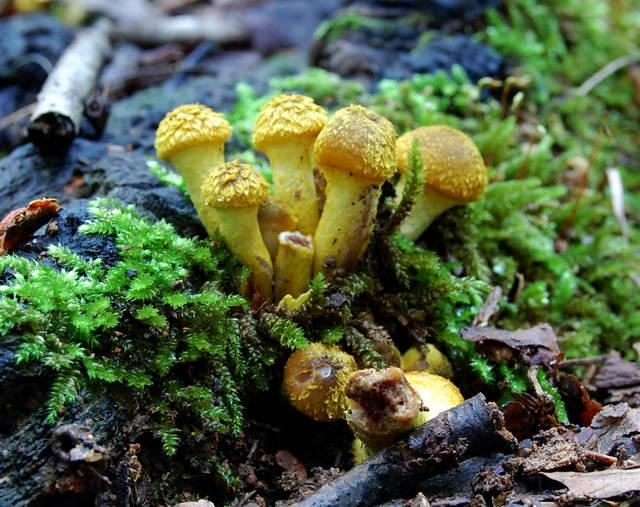Edible Mushroom: (311, 103, 398, 278), (390, 123, 487, 243), (153, 101, 232, 239), (199, 158, 274, 300), (249, 88, 315, 216)
